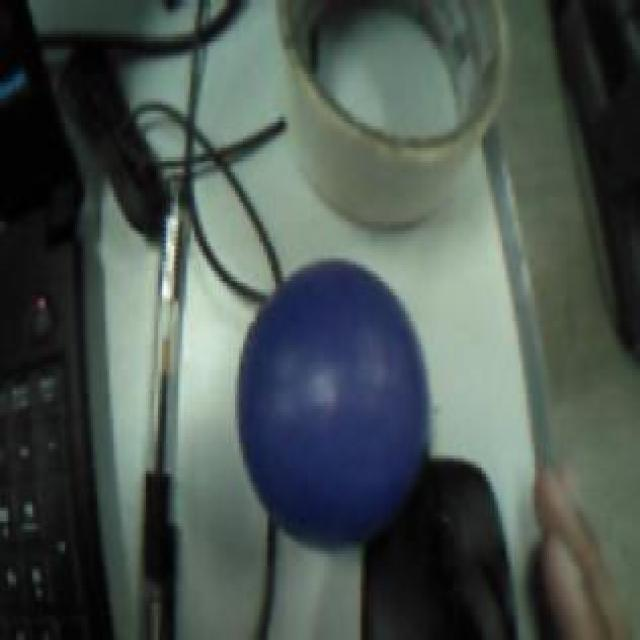BallPurple: (237, 260, 429, 550)
